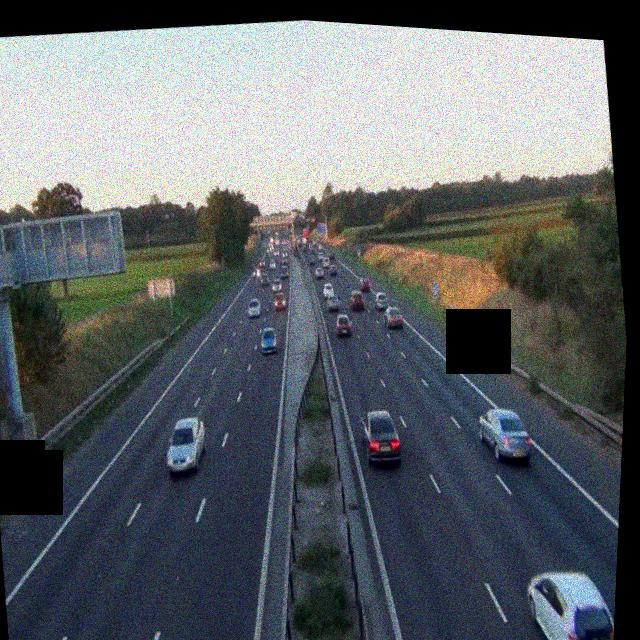car: (523, 561, 617, 640), (475, 403, 536, 465), (162, 415, 210, 477), (359, 407, 404, 468), (258, 324, 279, 354), (383, 302, 405, 329), (334, 311, 354, 337), (246, 297, 262, 319), (351, 289, 367, 311), (372, 289, 388, 309), (271, 291, 286, 311), (322, 282, 336, 301), (358, 276, 373, 292), (260, 272, 272, 287), (278, 264, 289, 280), (250, 263, 260, 277), (328, 263, 338, 276), (314, 266, 323, 280), (329, 249, 337, 261)
